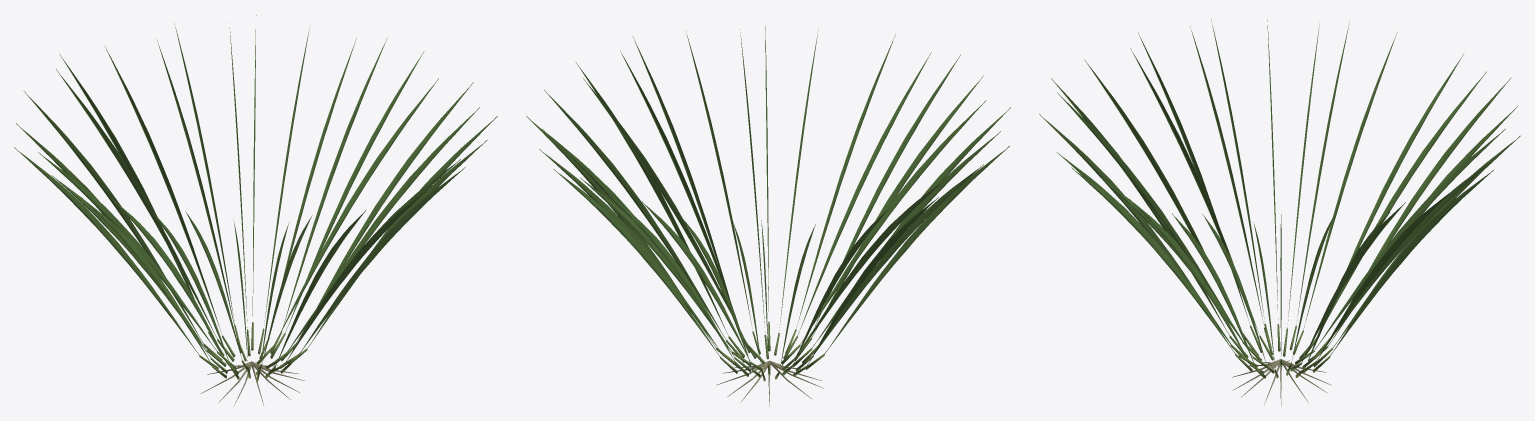
File: hairgrass-mobile.glb
3 views of the same model, side by side, from view 1: azimuth 30°, elevation 25°; view 2: azimuth 150°, elevation 25°; view 3: azimuth 270°, elevation 25° (orthographic).
Parts seen in each view (by area): view 1: blade, petiole, anchoring-root; view 2: blade, petiole, anchoring-root; view 3: blade, petiole, anchoring-root.
Part boxes in pixels (x1,y1,x2,y2): blade: (14, 15, 497, 366); petiole: (199, 322, 307, 381); anchoring-root: (200, 361, 304, 406); blade: (526, 26, 1010, 370); petiole: (716, 322, 824, 381); anchoring-root: (716, 360, 823, 406); blade: (1039, 18, 1520, 368); petiole: (1229, 323, 1332, 378); anchoring-root: (1232, 359, 1331, 406).
Size of the model in its own units: 0.7571 by 0.468 by 0.7564.
